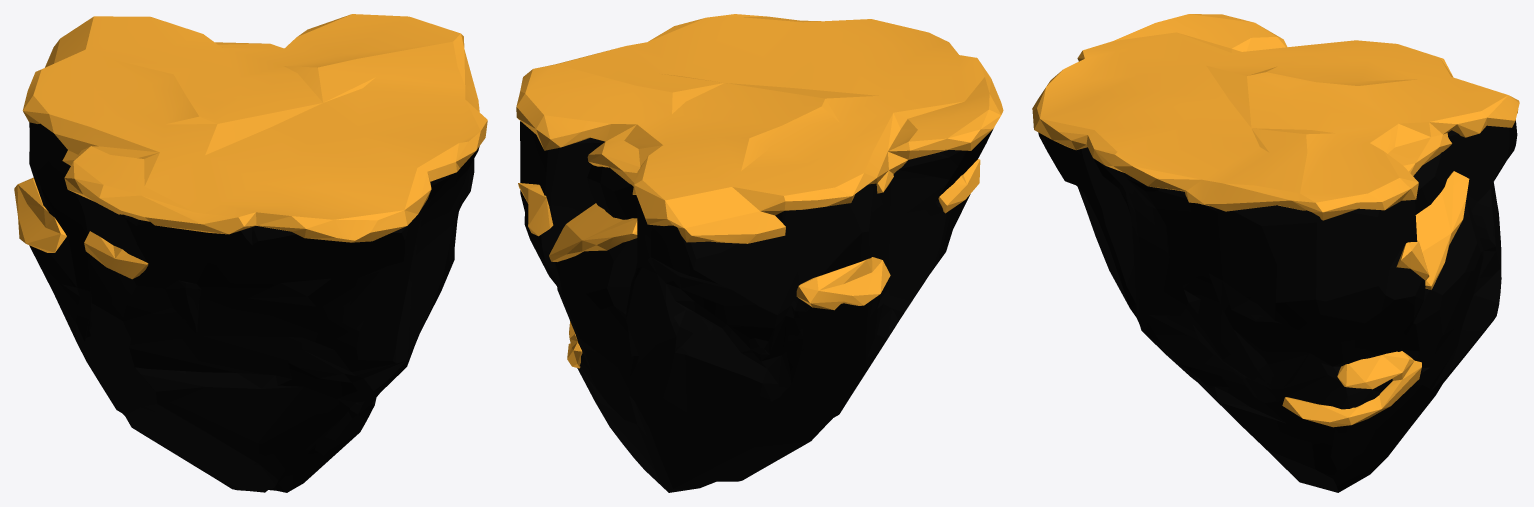
The model's file is SM_Iceberg_Medium_C_Snow.fbx.
The picture shows the model from 3 angles, left to right: view 1: azimuth 30°, elevation 25°; view 2: azimuth 150°, elevation 25°; view 3: azimuth 270°, elevation 25°; orthographic projection. The views are drawn at different scales.
Visible parts, largest first — view 1: iceberg-medium-c-snow; view 2: iceberg-medium-c-snow; view 3: iceberg-medium-c-snow.
Part boxes in pixels (bbox=[...]): iceberg-medium-c-snow: bbox=[14, 14, 487, 492]; iceberg-medium-c-snow: bbox=[516, 14, 1003, 492]; iceberg-medium-c-snow: bbox=[1032, 14, 1519, 492].
Size of the model in its own units: 13.15 by 11.49 by 14.17.
